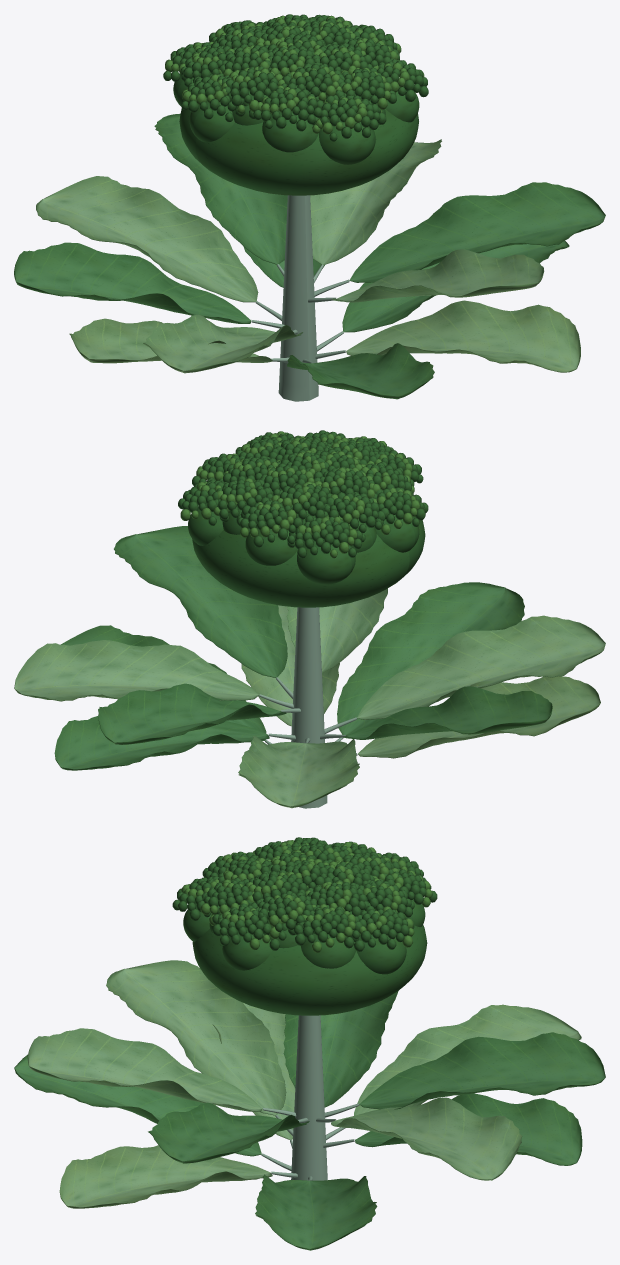
The model's file is broccoli-calabrese.glb.
The picture shows the model from 3 angles, top to bottom: view 1: azimuth 30°, elevation 25°; view 2: azimuth 150°, elevation 25°; view 3: azimuth 270°, elevation 25°; orthographic projection. The views are drawn at different scales.
Parts seen in each view (by area): view 1: Broccoli · Calabrese; view 2: Broccoli · Calabrese; view 3: Broccoli · Calabrese.
Boxes of the visible parts, left/top/right/bottom form: Broccoli · Calabrese: left=14, top=14, right=605, bottom=401; Broccoli · Calabrese: left=14, top=430, right=605, bottom=808; Broccoli · Calabrese: left=14, top=837, right=605, bottom=1250.
Size of the model in its own units: 0.6636 by 0.4226 by 0.6558.
4 materials, 3 textured.
